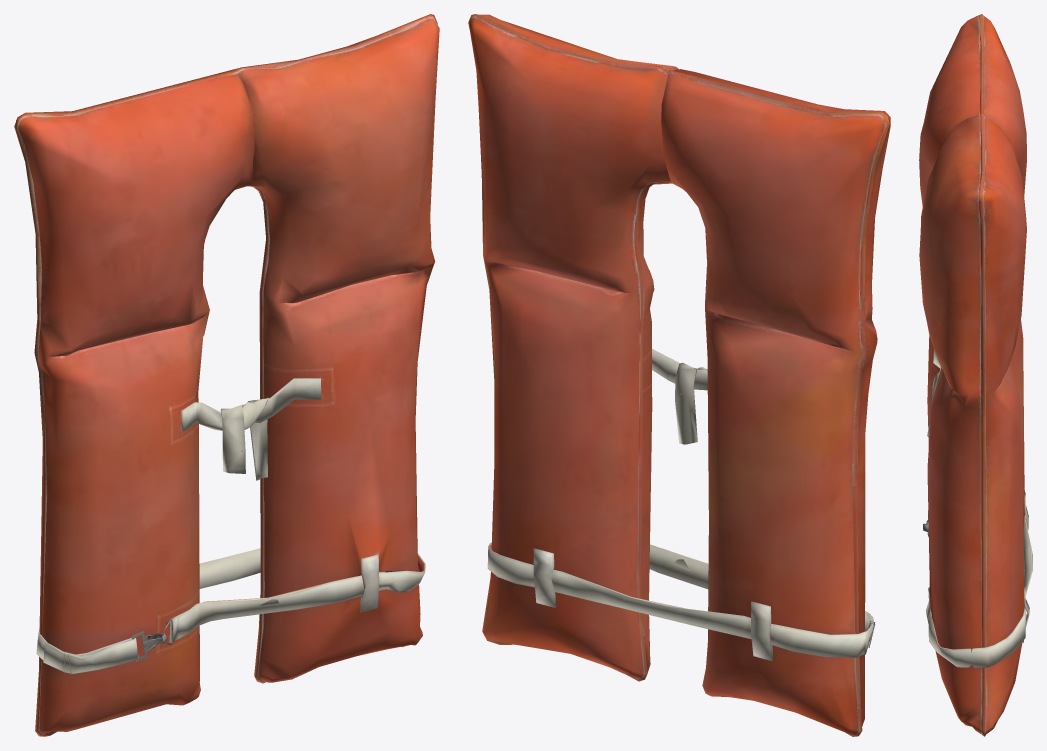
File: ph-life_jacket.glb
3 renders of one model, left to right at view 1: azimuth 30°, elevation 25°; view 2: azimuth 150°, elevation 25°; view 3: azimuth 270°, elevation 25°, orthographic. The views are drawn at different scales.
Visible parts, largest first — view 1: life_jacket; view 2: life_jacket; view 3: life_jacket.
Boxes of the visible parts, x1,y1,x2,y2 form: life_jacket: [14, 14, 439, 736]; life_jacket: [468, 14, 890, 736]; life_jacket: [919, 14, 1032, 736].
Size of the model in its own units: 0.6953 by 0.9921 by 0.1834.
Materials: 1 (1 with a texture image).
